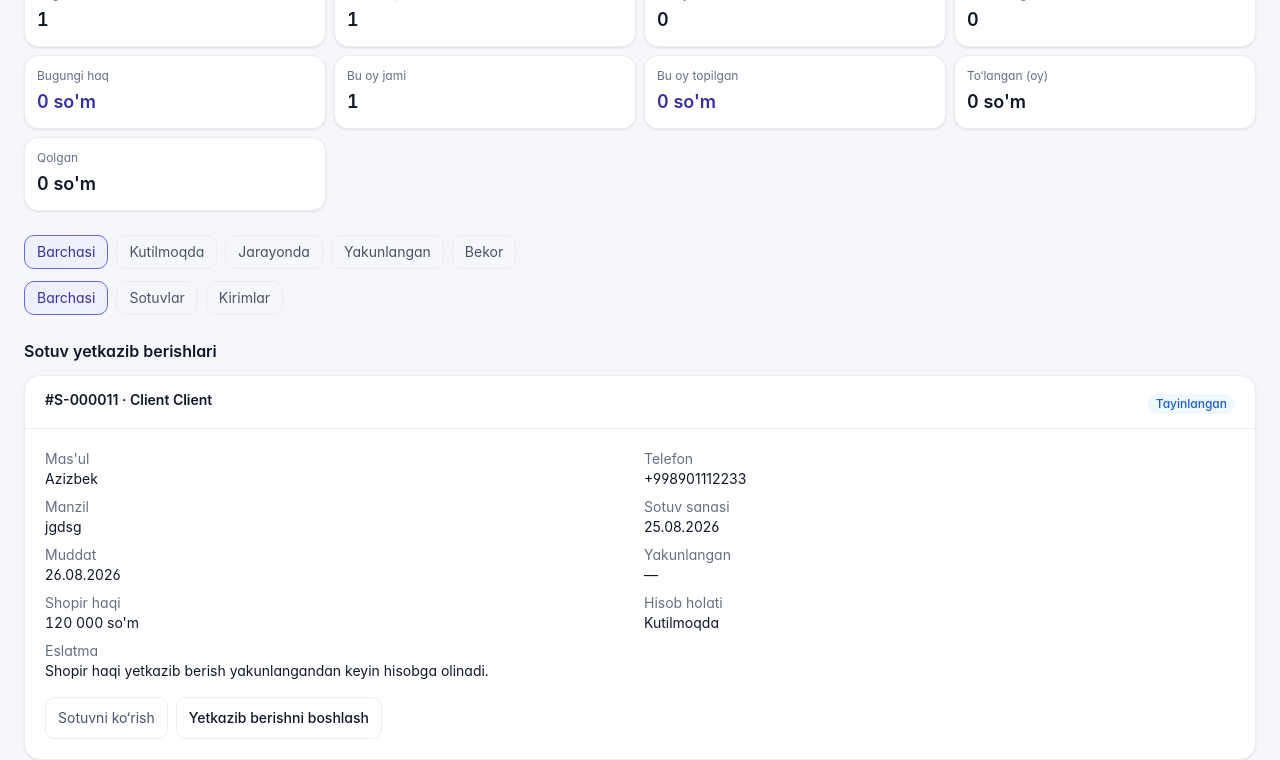
Test: DeliveryPage › starts delivery and shows server feedback
(page scrolled)
Step 1. Click the button with test id "start-delivery-sale_1" → (279, 718), box [176,697,382,739]
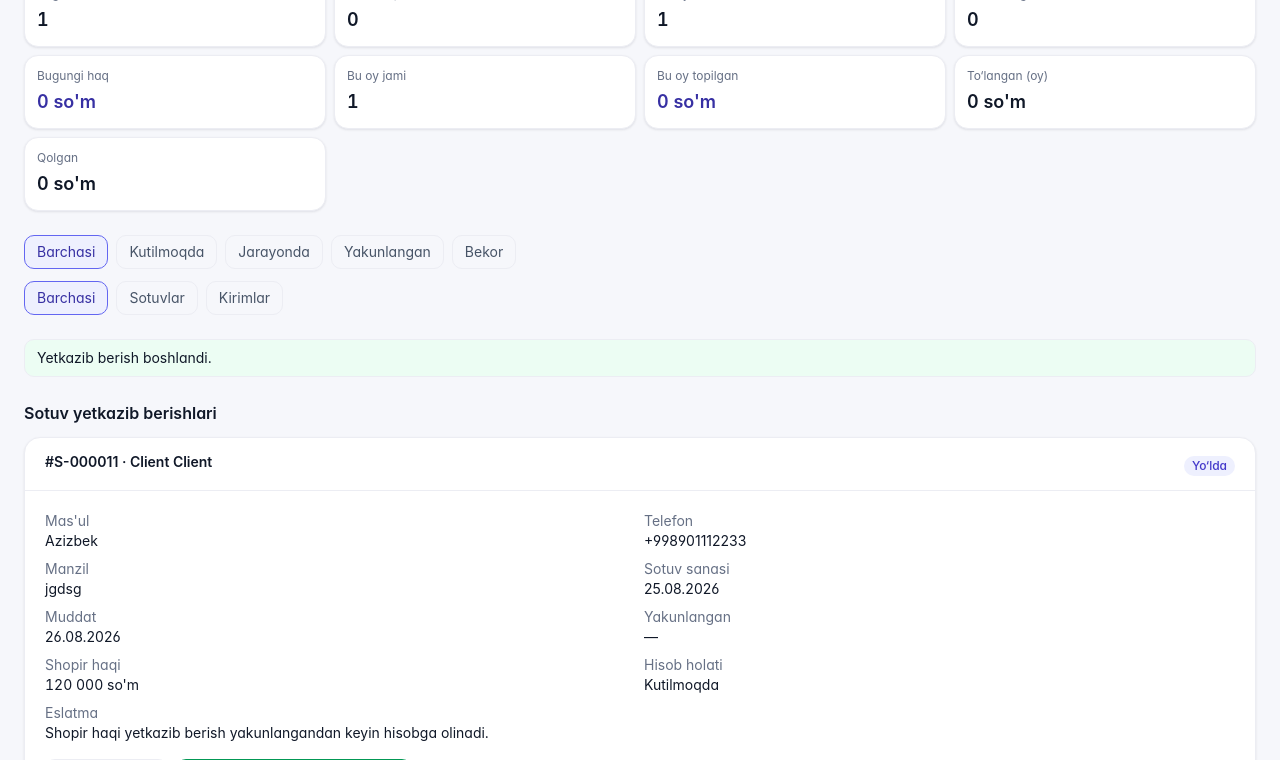
Expected: the text "Yetkazib berish boshlandi." is shown, [24,339,1256,377]
